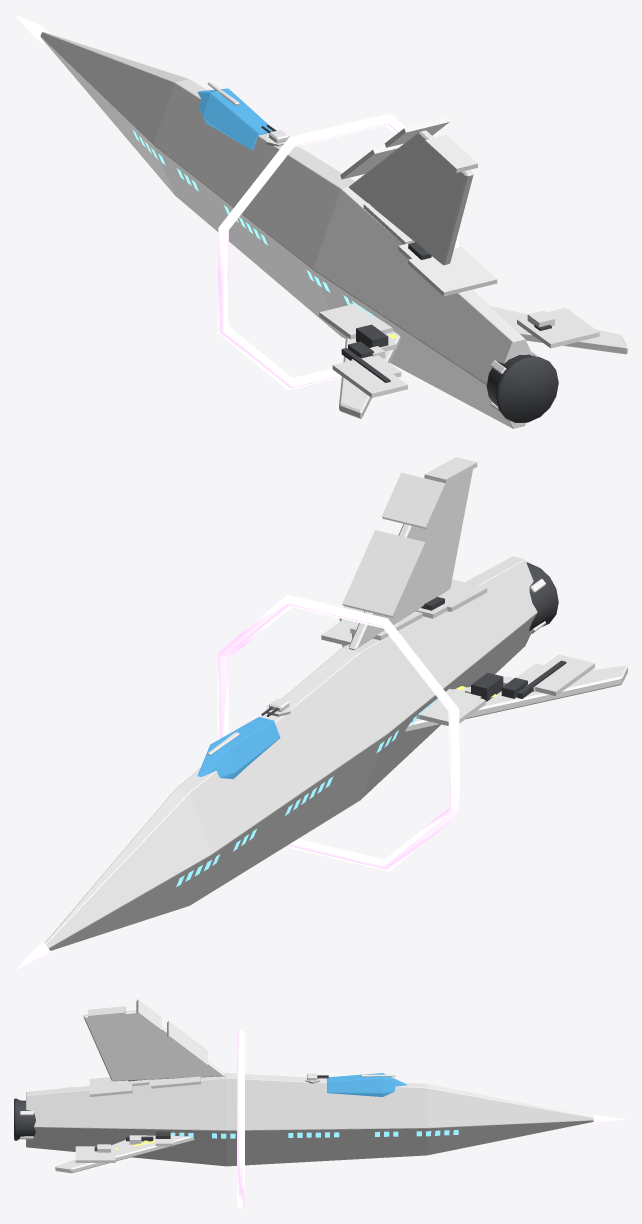
File: iskatel.glb
The picture shows the model from 3 angles, top to bottom: view 1: azimuth 30°, elevation 25°; view 2: azimuth 150°, elevation 25°; view 3: azimuth 270°, elevation 25°; orthographic projection. The views are drawn at different scales.
Visible parts, largest first — view 1: Корпус, Накладные_плиты, Плавник, Кольцо_сканера, Кожух_дюзы, Кабина, Механика, Крыло, Крыло.001, Решётки; view 2: Корпус, Накладные_плиты, Кольцо_сканера, Плавник, Кабина, Крыло.001, Механика, Кожух_дюзы, Решётки; view 3: Корпус, Плавник, Накладные_плиты, Кольцо_сканера, Кабина, Крыло, Кожух_дюзы, Решётки.
Boxes of the visible parts, x1,y1,x2,y2 form: Корпус: [40, 31, 533, 428]; Накладные_плиты: [319, 117, 599, 397]; Плавник: [349, 130, 473, 265]; Кольцо_сканера: [217, 113, 459, 390]; Кожух_дюзы: [486, 354, 558, 422]; Кабина: [197, 88, 273, 150]; Механика: [341, 242, 551, 382]; Крыло: [490, 306, 627, 354]; Крыло.001: [339, 303, 400, 418]; Решётки: [132, 130, 373, 316]; Корпус: [44, 556, 537, 950]; Накладные_плиты: [321, 457, 594, 725]; Кольцо_сканера: [217, 595, 459, 871]; Плавник: [349, 469, 472, 649]; Кабина: [197, 717, 280, 779]; Крыло.001: [405, 665, 627, 732]; Механика: [421, 597, 566, 701]; Кожух_дюзы: [526, 562, 558, 630]; Решётки: [176, 698, 438, 886]; Корпус: [26, 1073, 593, 1166]; Плавник: [83, 1010, 225, 1081]; Накладные_плиты: [75, 999, 207, 1162]; Кольцо_сканера: [237, 1030, 244, 1209]; Кабина: [327, 1073, 406, 1096]; Крыло: [55, 1135, 194, 1173]; Кожух_дюзы: [14, 1098, 35, 1140]; Решётки: [170, 1129, 458, 1138].
Bounding box in the file's own units: 0.6775 × 0.7309 × 2.14.
